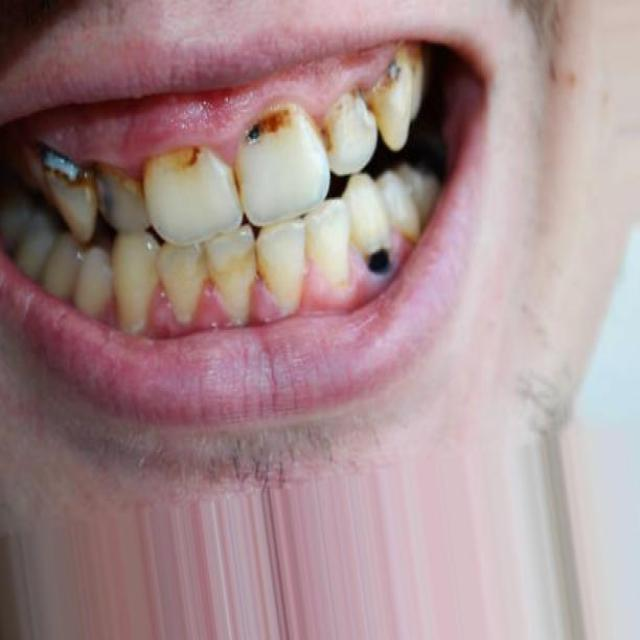caries: (318, 90, 388, 170), (235, 92, 303, 152), (39, 138, 92, 199), (172, 133, 220, 185), (366, 41, 408, 97), (359, 237, 397, 290)
